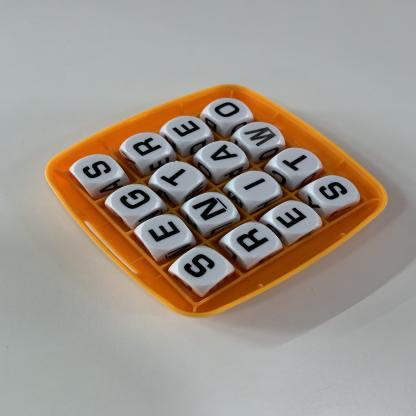a: (201, 142, 246, 170)
e: (142, 216, 190, 252), (273, 202, 319, 235), (166, 117, 208, 143)
g: (112, 185, 158, 217)
i: (235, 171, 279, 202)
n: (189, 194, 236, 226)
o: (211, 98, 249, 124)
r: (231, 224, 277, 259), (125, 133, 169, 161)
s: (179, 249, 228, 286), (74, 155, 121, 186), (313, 177, 359, 208)
t: (157, 163, 201, 192), (277, 148, 320, 177)
w: (240, 123, 282, 151)
